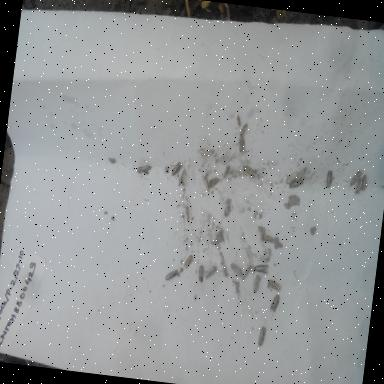pbw: (267, 292, 282, 316), (264, 276, 284, 293), (228, 261, 244, 281), (204, 262, 219, 283), (168, 159, 184, 178), (252, 260, 270, 276), (239, 262, 253, 282), (349, 168, 363, 188), (240, 165, 258, 180), (293, 164, 308, 182), (206, 174, 221, 192), (221, 198, 233, 220), (352, 174, 364, 196), (256, 324, 267, 348), (164, 266, 180, 282), (251, 272, 262, 294), (176, 168, 188, 188), (260, 231, 277, 245), (285, 168, 298, 186), (323, 168, 334, 189), (182, 252, 194, 271), (134, 162, 150, 176), (288, 178, 304, 192), (200, 146, 216, 160), (220, 162, 231, 182), (200, 173, 211, 193), (195, 263, 206, 283), (238, 120, 250, 138), (182, 204, 192, 224), (236, 134, 246, 153), (360, 172, 369, 192), (234, 114, 244, 130)
